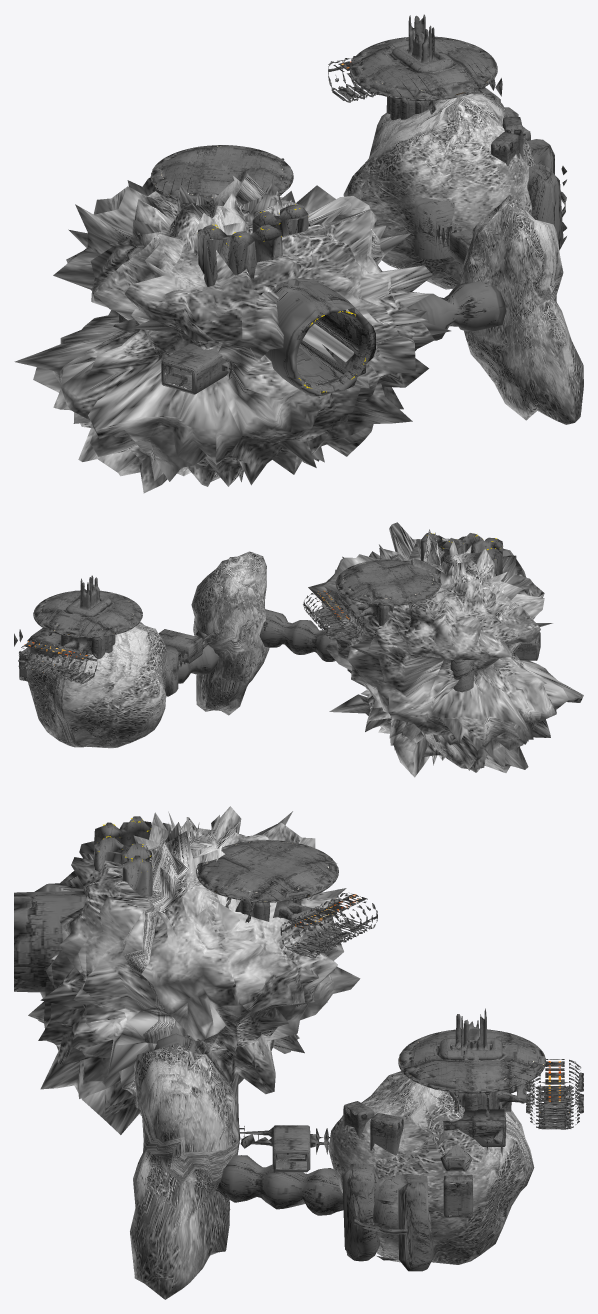
Rendered from drift.glb.
The picture shows the model from 3 angles, top to bottom: view 1: azimuth 30°, elevation 25°; view 2: azimuth 150°, elevation 25°; view 3: azimuth 270°, elevation 25°; orthographic projection. The views are drawn at different scales.
Parts seen in each view (by area): view 1: drift; view 2: drift; view 3: drift.
Boxes of the visible parts, <box> form: drift: <box>14,14,583,493</box>; drift: <box>14,522,583,777</box>; drift: <box>14,806,583,1299</box>.
Size of the model in its own units: 230 by 117 by 188.
Materials: 9 (6 with a texture image).
